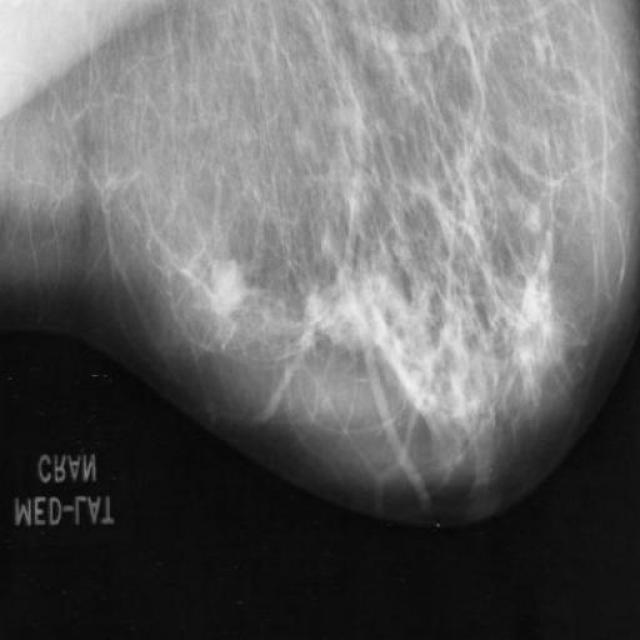cancer: (179, 232, 260, 346)
